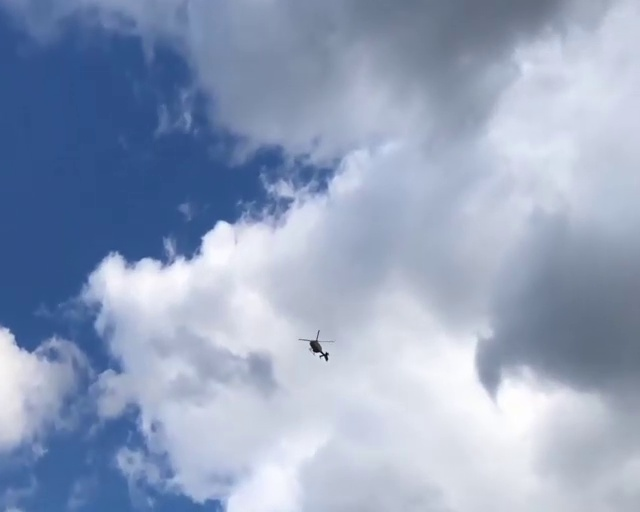HELICOPTER: (298, 329, 335, 362)
